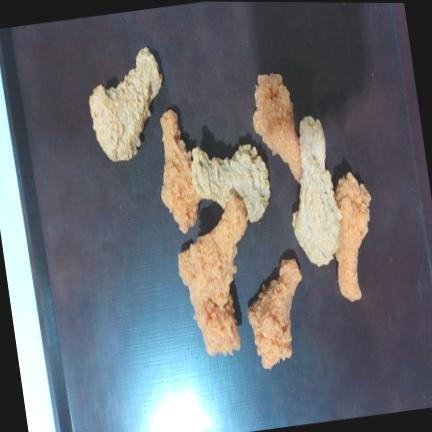chicken: (89, 47, 162, 160), (292, 116, 341, 265), (179, 196, 246, 301), (191, 144, 270, 221), (247, 258, 301, 368), (252, 73, 301, 181), (160, 109, 200, 233), (334, 171, 371, 300), (190, 293, 239, 355)
